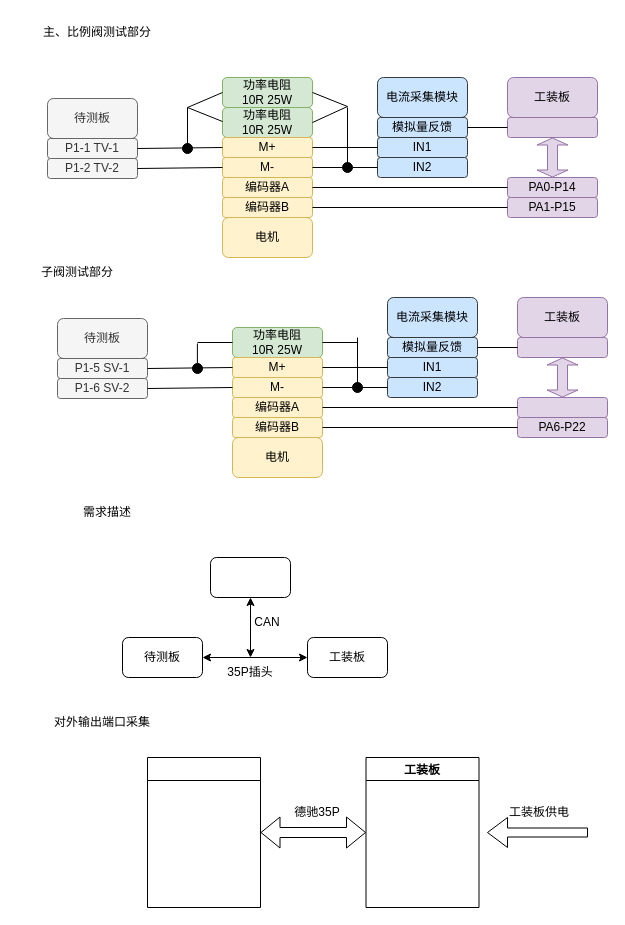
The diagram is 625 pixels wide and 925 high, and some of its shapes have lost their labels. Here are the shapes that lost their labels. From the top down, the centre of each, then its label:
the point at 552,127: PA2-P16
the point at 562,347: PA3-P17
the point at 562,407: PA5-P21
the point at 250,577: 上位机
the point at 203,832: NMC215
